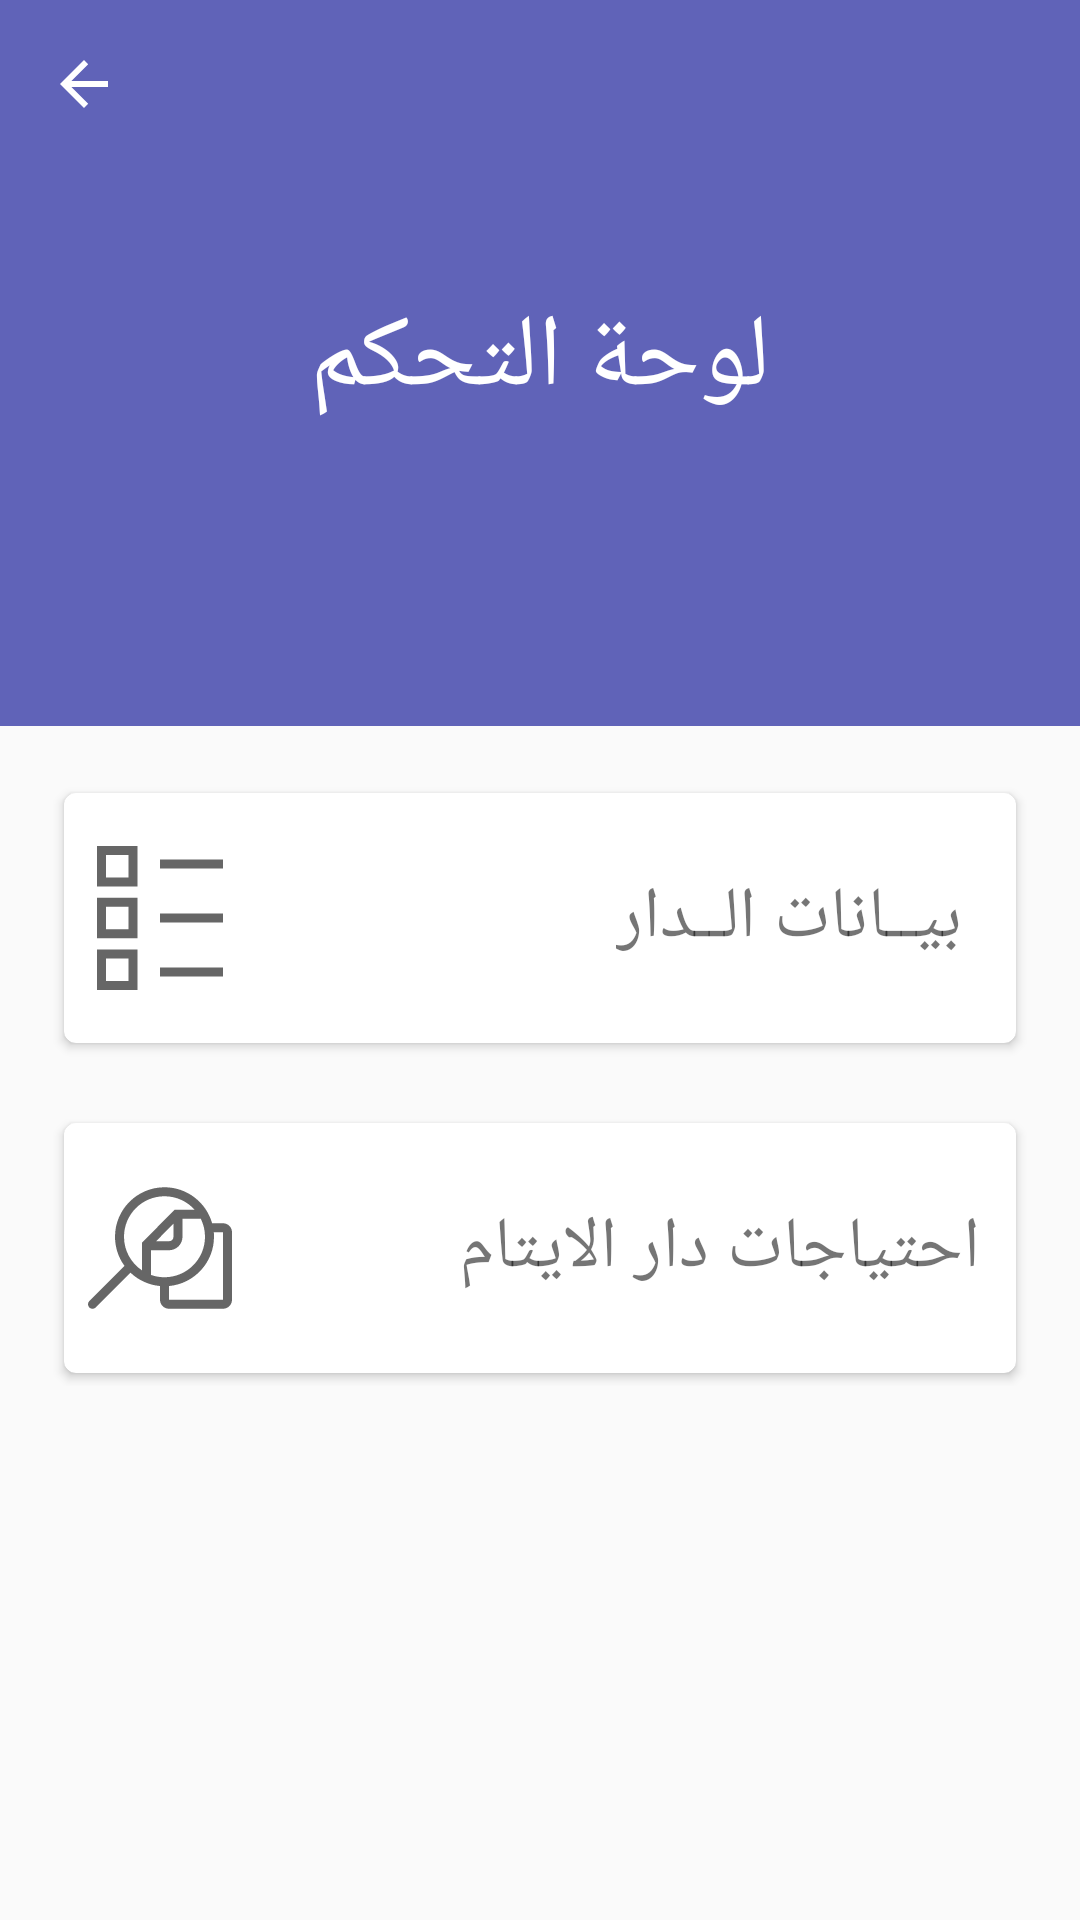

Where to tap for icons on this 1080 x 1920 app screen, as [x,y]:
details: [160,918]
